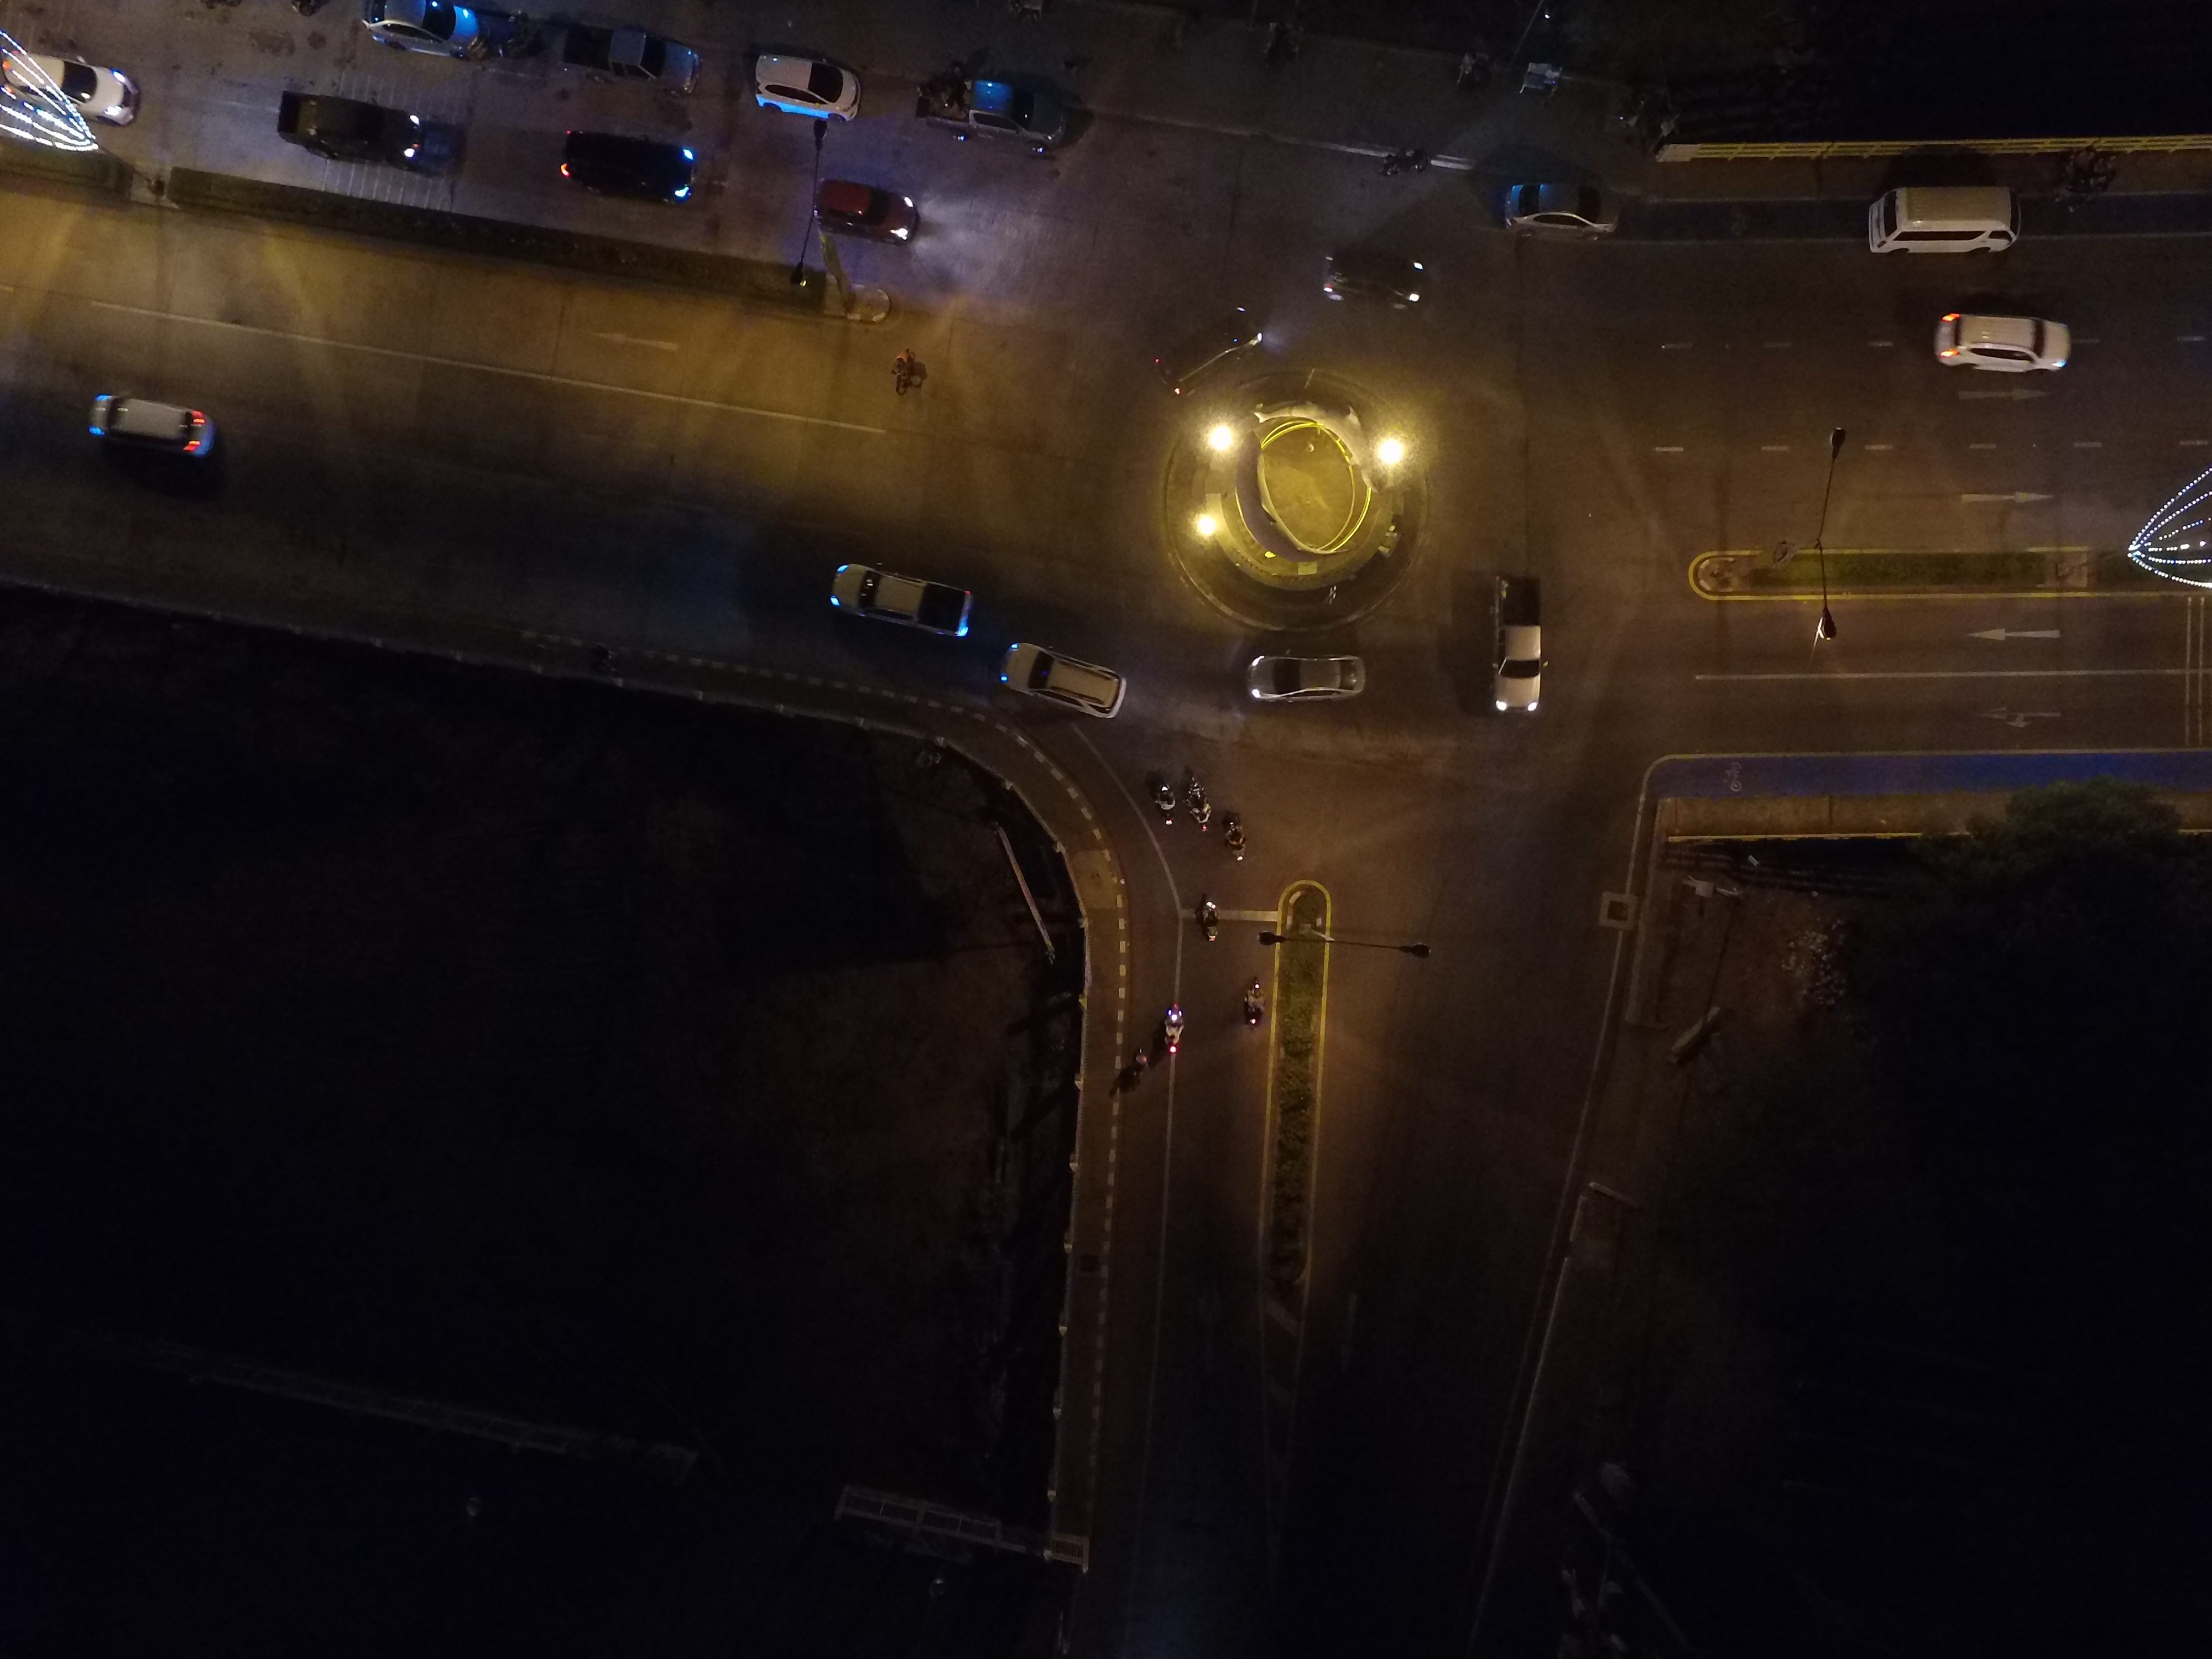car: (1851, 162, 2040, 270), (1907, 295, 2090, 389), (1465, 166, 1648, 260), (1285, 239, 1468, 333), (907, 66, 1090, 160), (71, 385, 237, 479), (819, 554, 984, 648), (977, 631, 1143, 725), (1221, 631, 1386, 725), (791, 166, 934, 268), (735, 35, 878, 138), (556, 124, 698, 227), (557, 16, 700, 118), (280, 82, 423, 185), (1475, 563, 1555, 728), (0, 49, 146, 132), (357, 0, 502, 71)
